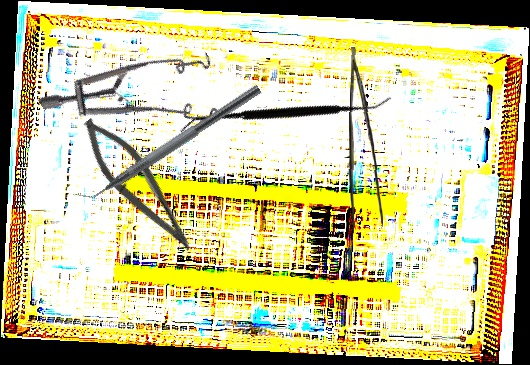Chopper: (70, 71, 263, 213)
Micro Scissor: (68, 109, 210, 260)
Spatula Surgical: (179, 16, 392, 213)
Speculum: (36, 7, 242, 198)
Tissue Forceps: (347, 46, 386, 236)
